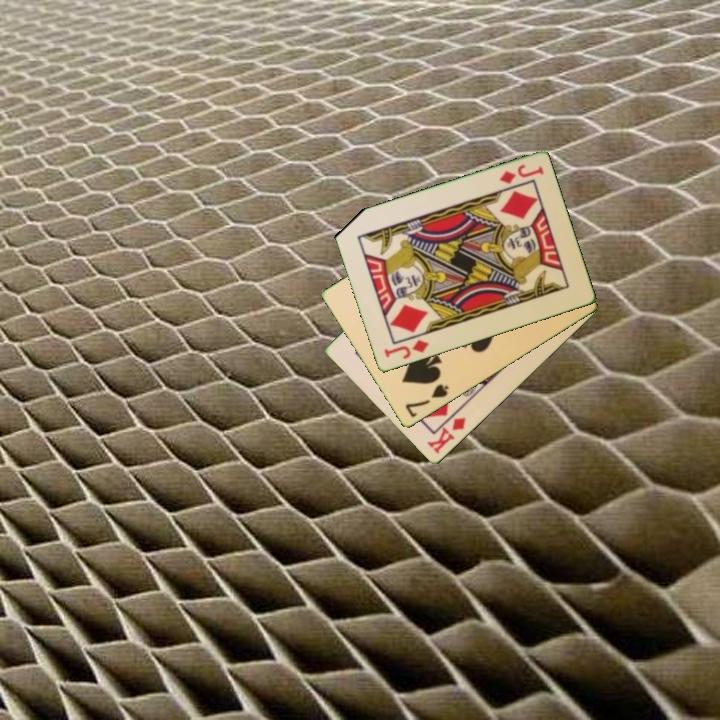7s: (402, 381, 452, 421)
Jd: (381, 336, 432, 362), (496, 161, 547, 187)
Kd: (423, 414, 469, 457)
